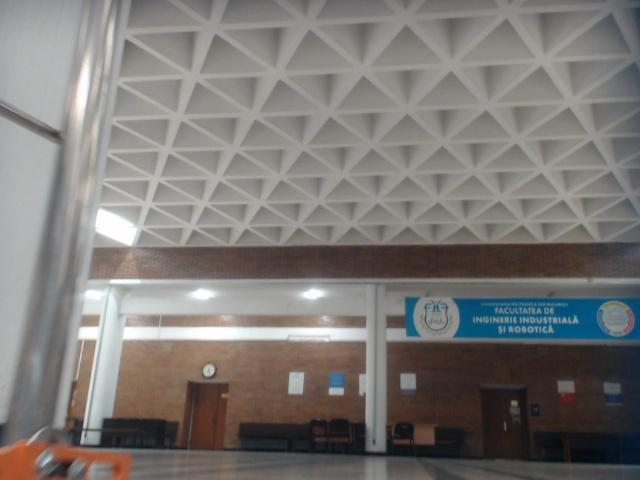ramps-railing: (6, 0, 133, 440)
